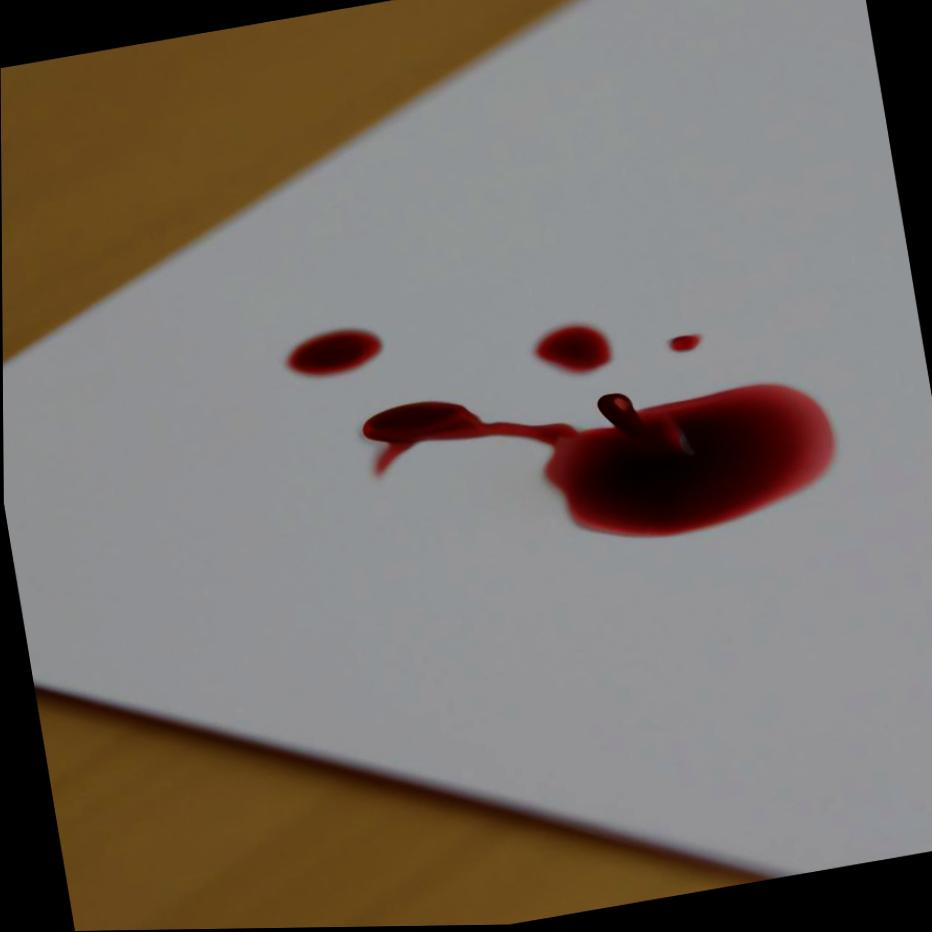Fire: (360, 386, 834, 540), (285, 331, 382, 377), (534, 326, 610, 375), (668, 336, 701, 354)
